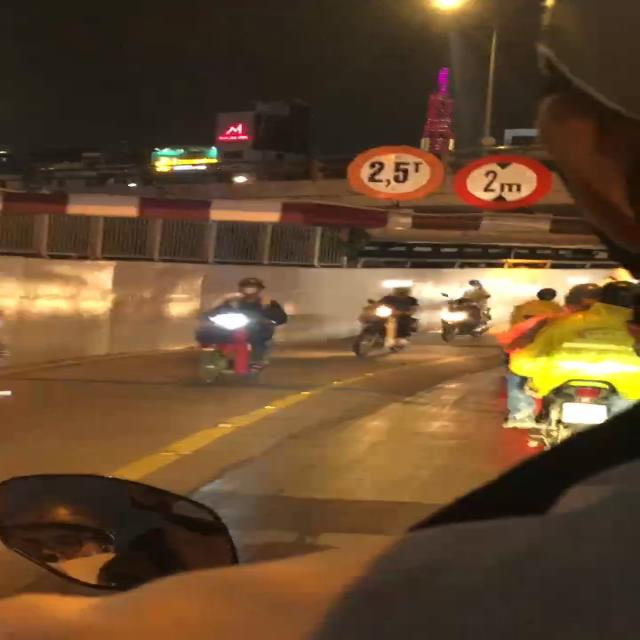Bien bao han che chieu cao: (445, 151, 565, 214)
